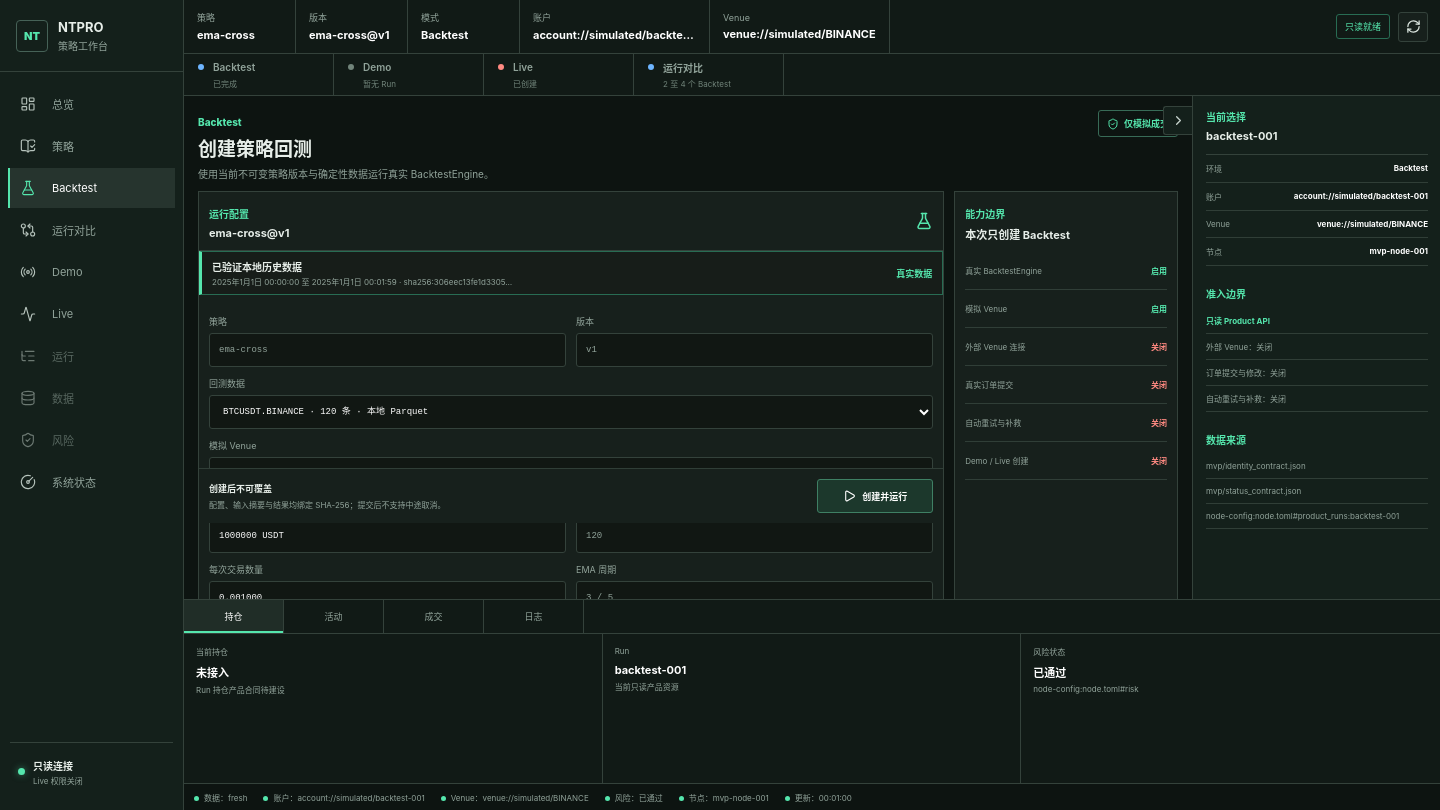
Test: strategy workbench product slice › selects a verified local dataset and freezes its fingerprint into Backtest
Check: the heading "创建策略回测" is shown, box [198,138,312,161]
Check: the message shows "已验证本地历史数据", box [212,261,302,273]
Click the button "创建并运行": click(875, 496) [817,479,933,513]
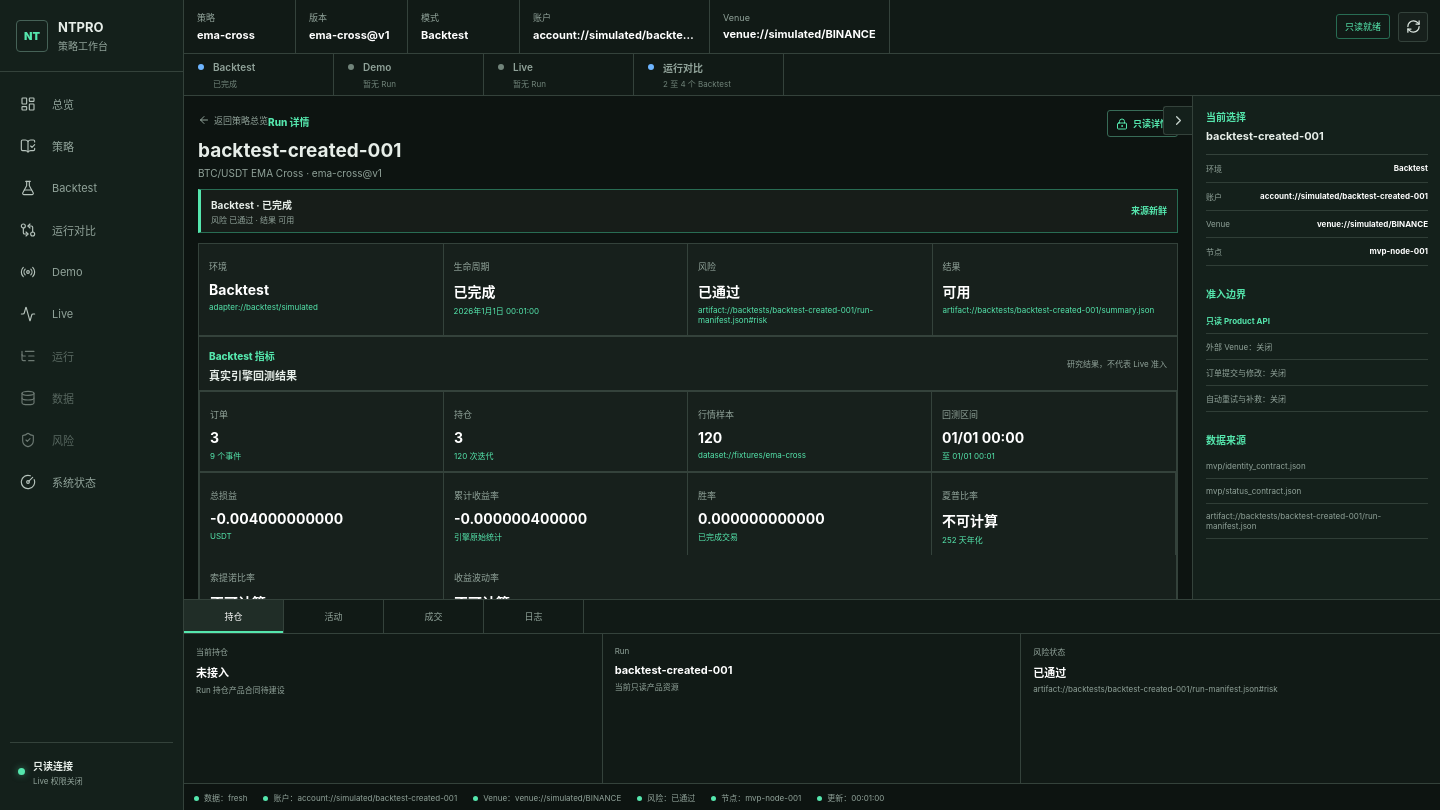
Check: the heading "backtest-created-001" is shown, box [198,138,401,162]
